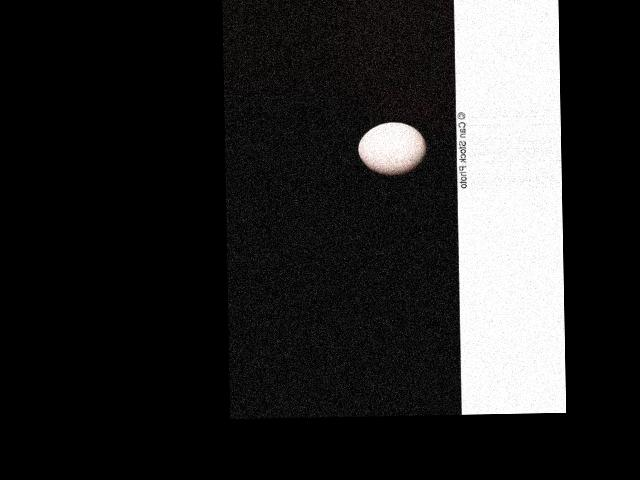egg: (358, 121, 428, 176)
